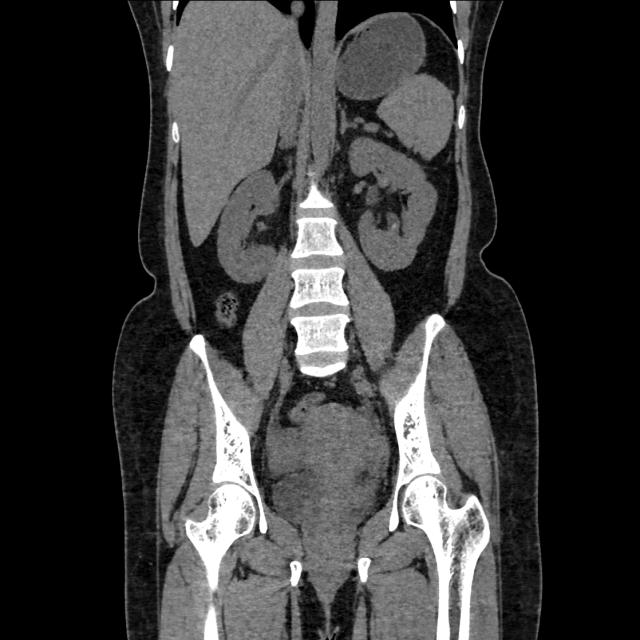kidney: (346, 133, 440, 276), (213, 166, 287, 289)
stone: (391, 212, 399, 240)
